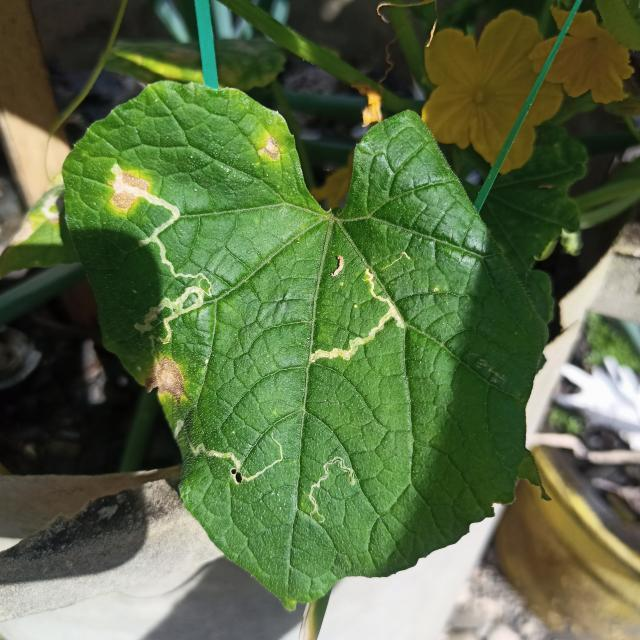disease_cucumber: (137, 356, 194, 407), (107, 171, 149, 217), (254, 133, 286, 166)
